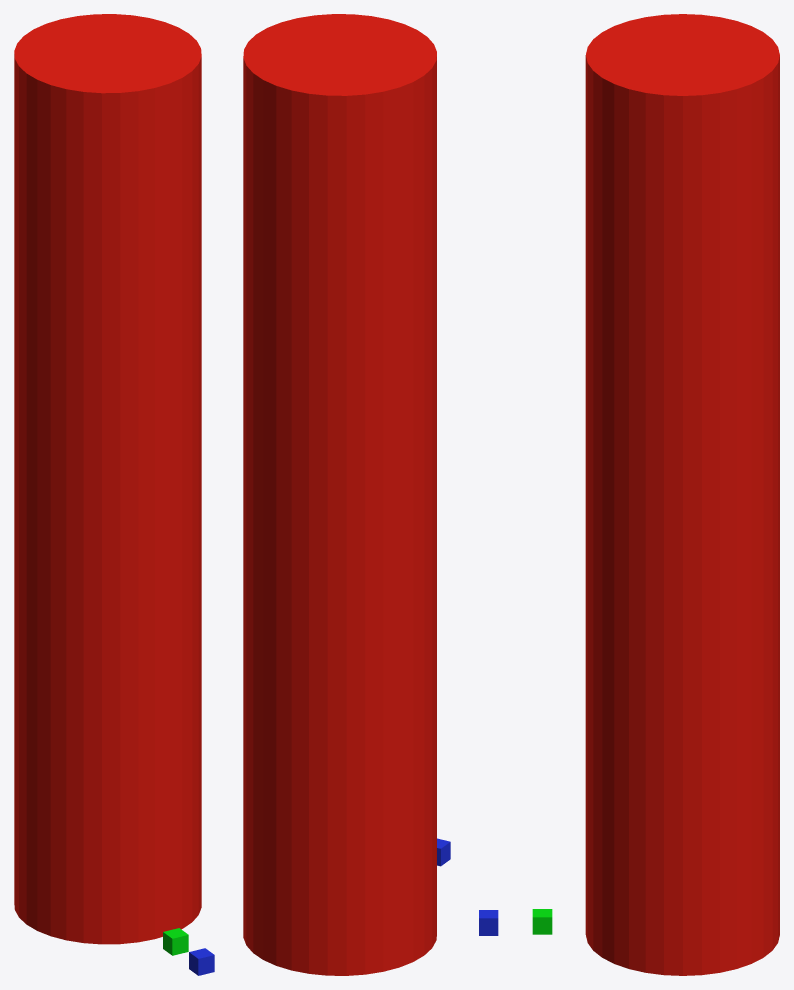
Rendered from sceneDevoir3.glb.
3 renders of one model, left to right at view 1: azimuth 30°, elevation 25°; view 2: azimuth 150°, elevation 25°; view 3: azimuth 270°, elevation 25°, orthographic. The views are drawn at different scales.
Visible parts, largest first — view 1: Cylinder, Cube, Cargo; view 2: Cylinder; view 3: Cylinder.
Boxes of the visible parts, x1,y1,x2,y2 form: Cylinder: (14,14,201,944); Cube: (189,948,214,975); Cargo: (163,928,188,955); Cylinder: (243,14,436,975); Cylinder: (585,14,779,975).
Size of what is drawn, in the model's own units: 200 by 1000 by 310.
